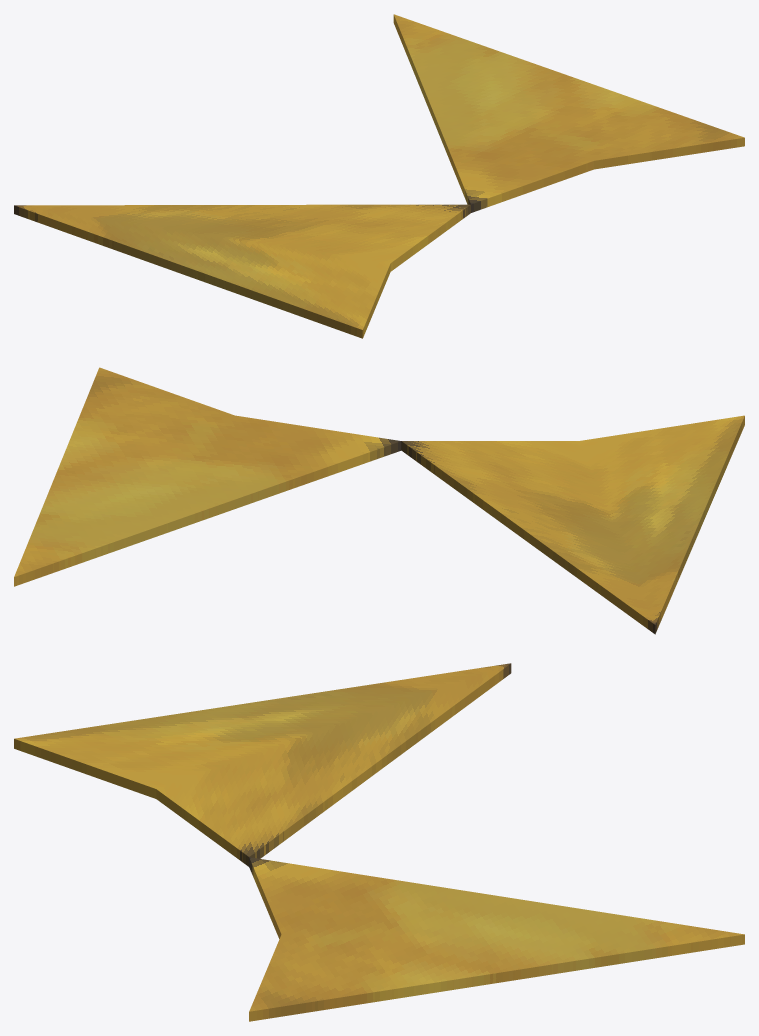
File: 2petal.glb
The picture shows the model from 3 angles, top to bottom: view 1: azimuth 30°, elevation 25°; view 2: azimuth 150°, elevation 25°; view 3: azimuth 270°, elevation 25°; orthographic projection. The views are drawn at different scales.
Parts seen in each view (by area): view 1: sun-2petal; view 2: sun-2petal; view 3: sun-2petal.
Boxes of the visible parts, left/top/right/bottom form: sun-2petal: left=14, top=14, right=744, bottom=338; sun-2petal: left=14, top=367, right=744, bottom=634; sun-2petal: left=14, top=663, right=744, bottom=1021.
Size of the model in its own units: 0.7461 by 0.01 by 0.6614.
Materials: 1 (1 with a texture image).
